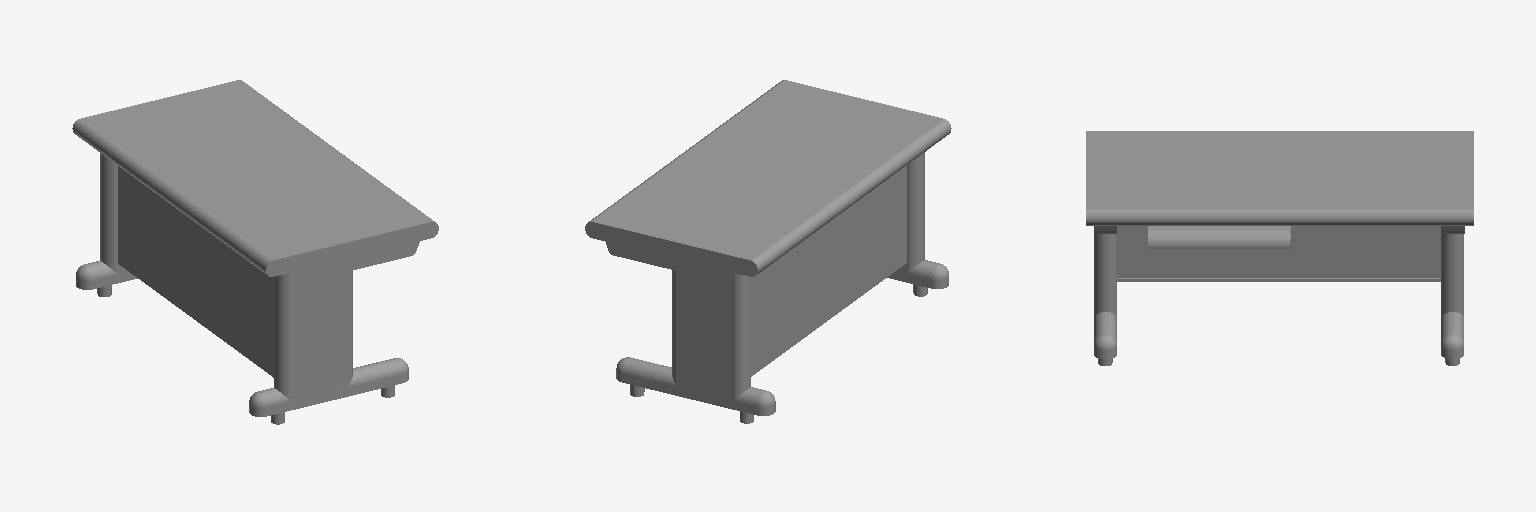
Rendered from PC_Desk.obj.
3 views of the same model, side by side, from view 1: azimuth 30°, elevation 25°; view 2: azimuth 150°, elevation 25°; view 3: azimuth 270°, elevation 25° (orthographic).
Parts seen in each view (by area): view 1: Desk_top_Cylinder, Desk_Back_Cube.001, Desk_Leg.001_Cylinder.002, Desk_Leg.002_Cylinder.016; view 2: Desk_top_Cylinder, Desk_Back_Cube.001, Desk_Leg.002_Cylinder.016, Desk_Leg.001_Cylinder.002, Desk_Leg.003_Cylinder.017; view 3: Desk_top_Cylinder, Desk_Back_Cube.001, drawer_Cube.003, Desk_Leg.001_Cylinder.002, Desk_Leg.002_Cylinder.016.
Part boxes in pixels (bbox=[...]): Desk_top_Cylinder: bbox=[72, 80, 438, 276]; Desk_Back_Cube.001: bbox=[118, 166, 273, 377]; Desk_Leg.001_Cylinder.002: bbox=[249, 241, 419, 424]; Desk_Leg.002_Cylinder.016: bbox=[76, 153, 137, 296]; Desk_top_Cylinder: bbox=[585, 80, 951, 276]; Desk_Back_Cube.001: bbox=[751, 165, 906, 376]; Desk_Leg.002_Cylinder.016: bbox=[616, 259, 775, 423]; Desk_Leg.001_Cylinder.002: bbox=[887, 152, 948, 296]; Desk_Leg.003_Cylinder.017: bbox=[606, 242, 675, 270]; Desk_top_Cylinder: bbox=[1086, 131, 1473, 225]; Desk_Back_Cube.001: bbox=[1117, 226, 1440, 281]; drawer_Cube.003: bbox=[1148, 226, 1290, 248]; Desk_Leg.001_Cylinder.002: bbox=[1094, 226, 1116, 365]; Desk_Leg.002_Cylinder.016: bbox=[1441, 234, 1463, 365].
Size of the model in its own units: 3.99 by 3.54 by 7.23.